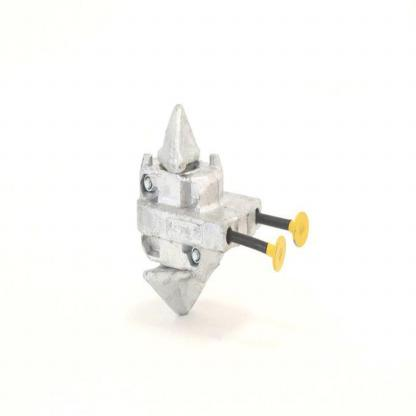Twistlock: (132, 92, 312, 321)
